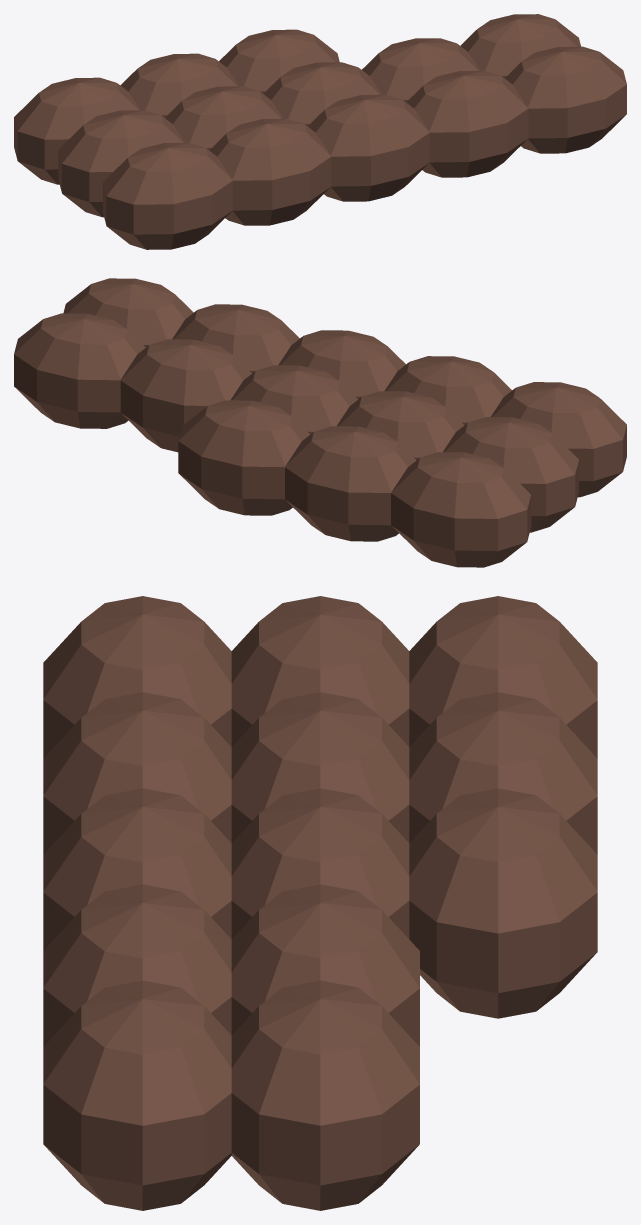
File: 073_coconut_husk_pile.glb
3 views of the same model, one above another, from view 1: azimuth 30°, elevation 25°; view 2: azimuth 150°, elevation 25°; view 3: azimuth 270°, elevation 25° (orthographic). The views are drawn at different scales.
Parts seen in each view (by area): view 1: Coconut husk pile; view 2: Coconut husk pile; view 3: Coconut husk pile.
Boxes of the visible parts, x1,y1,x2,y2 form: Coconut husk pile: (14,14,626,249); Coconut husk pile: (14,278,626,567); Coconut husk pile: (43,596,597,1210).
Bounding box in the file's own units: 1.68 × 0.3 × 0.7804.
